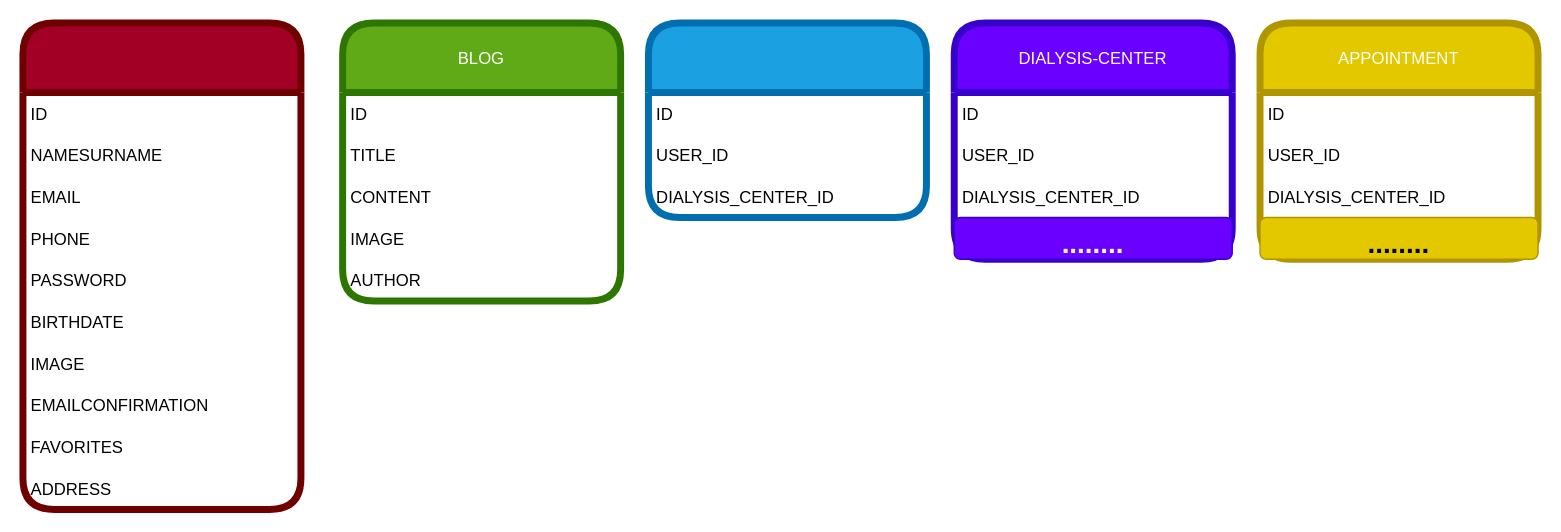
This 1561x532 diagram has some shape labels left out. The shapes that lost their labels are listed below. From the top down, each one's box as (x1, y1, x2, y2) in pixels, then its label:
(644, 19, 929, 220): SEARCH
(19, 19, 304, 512): USER
